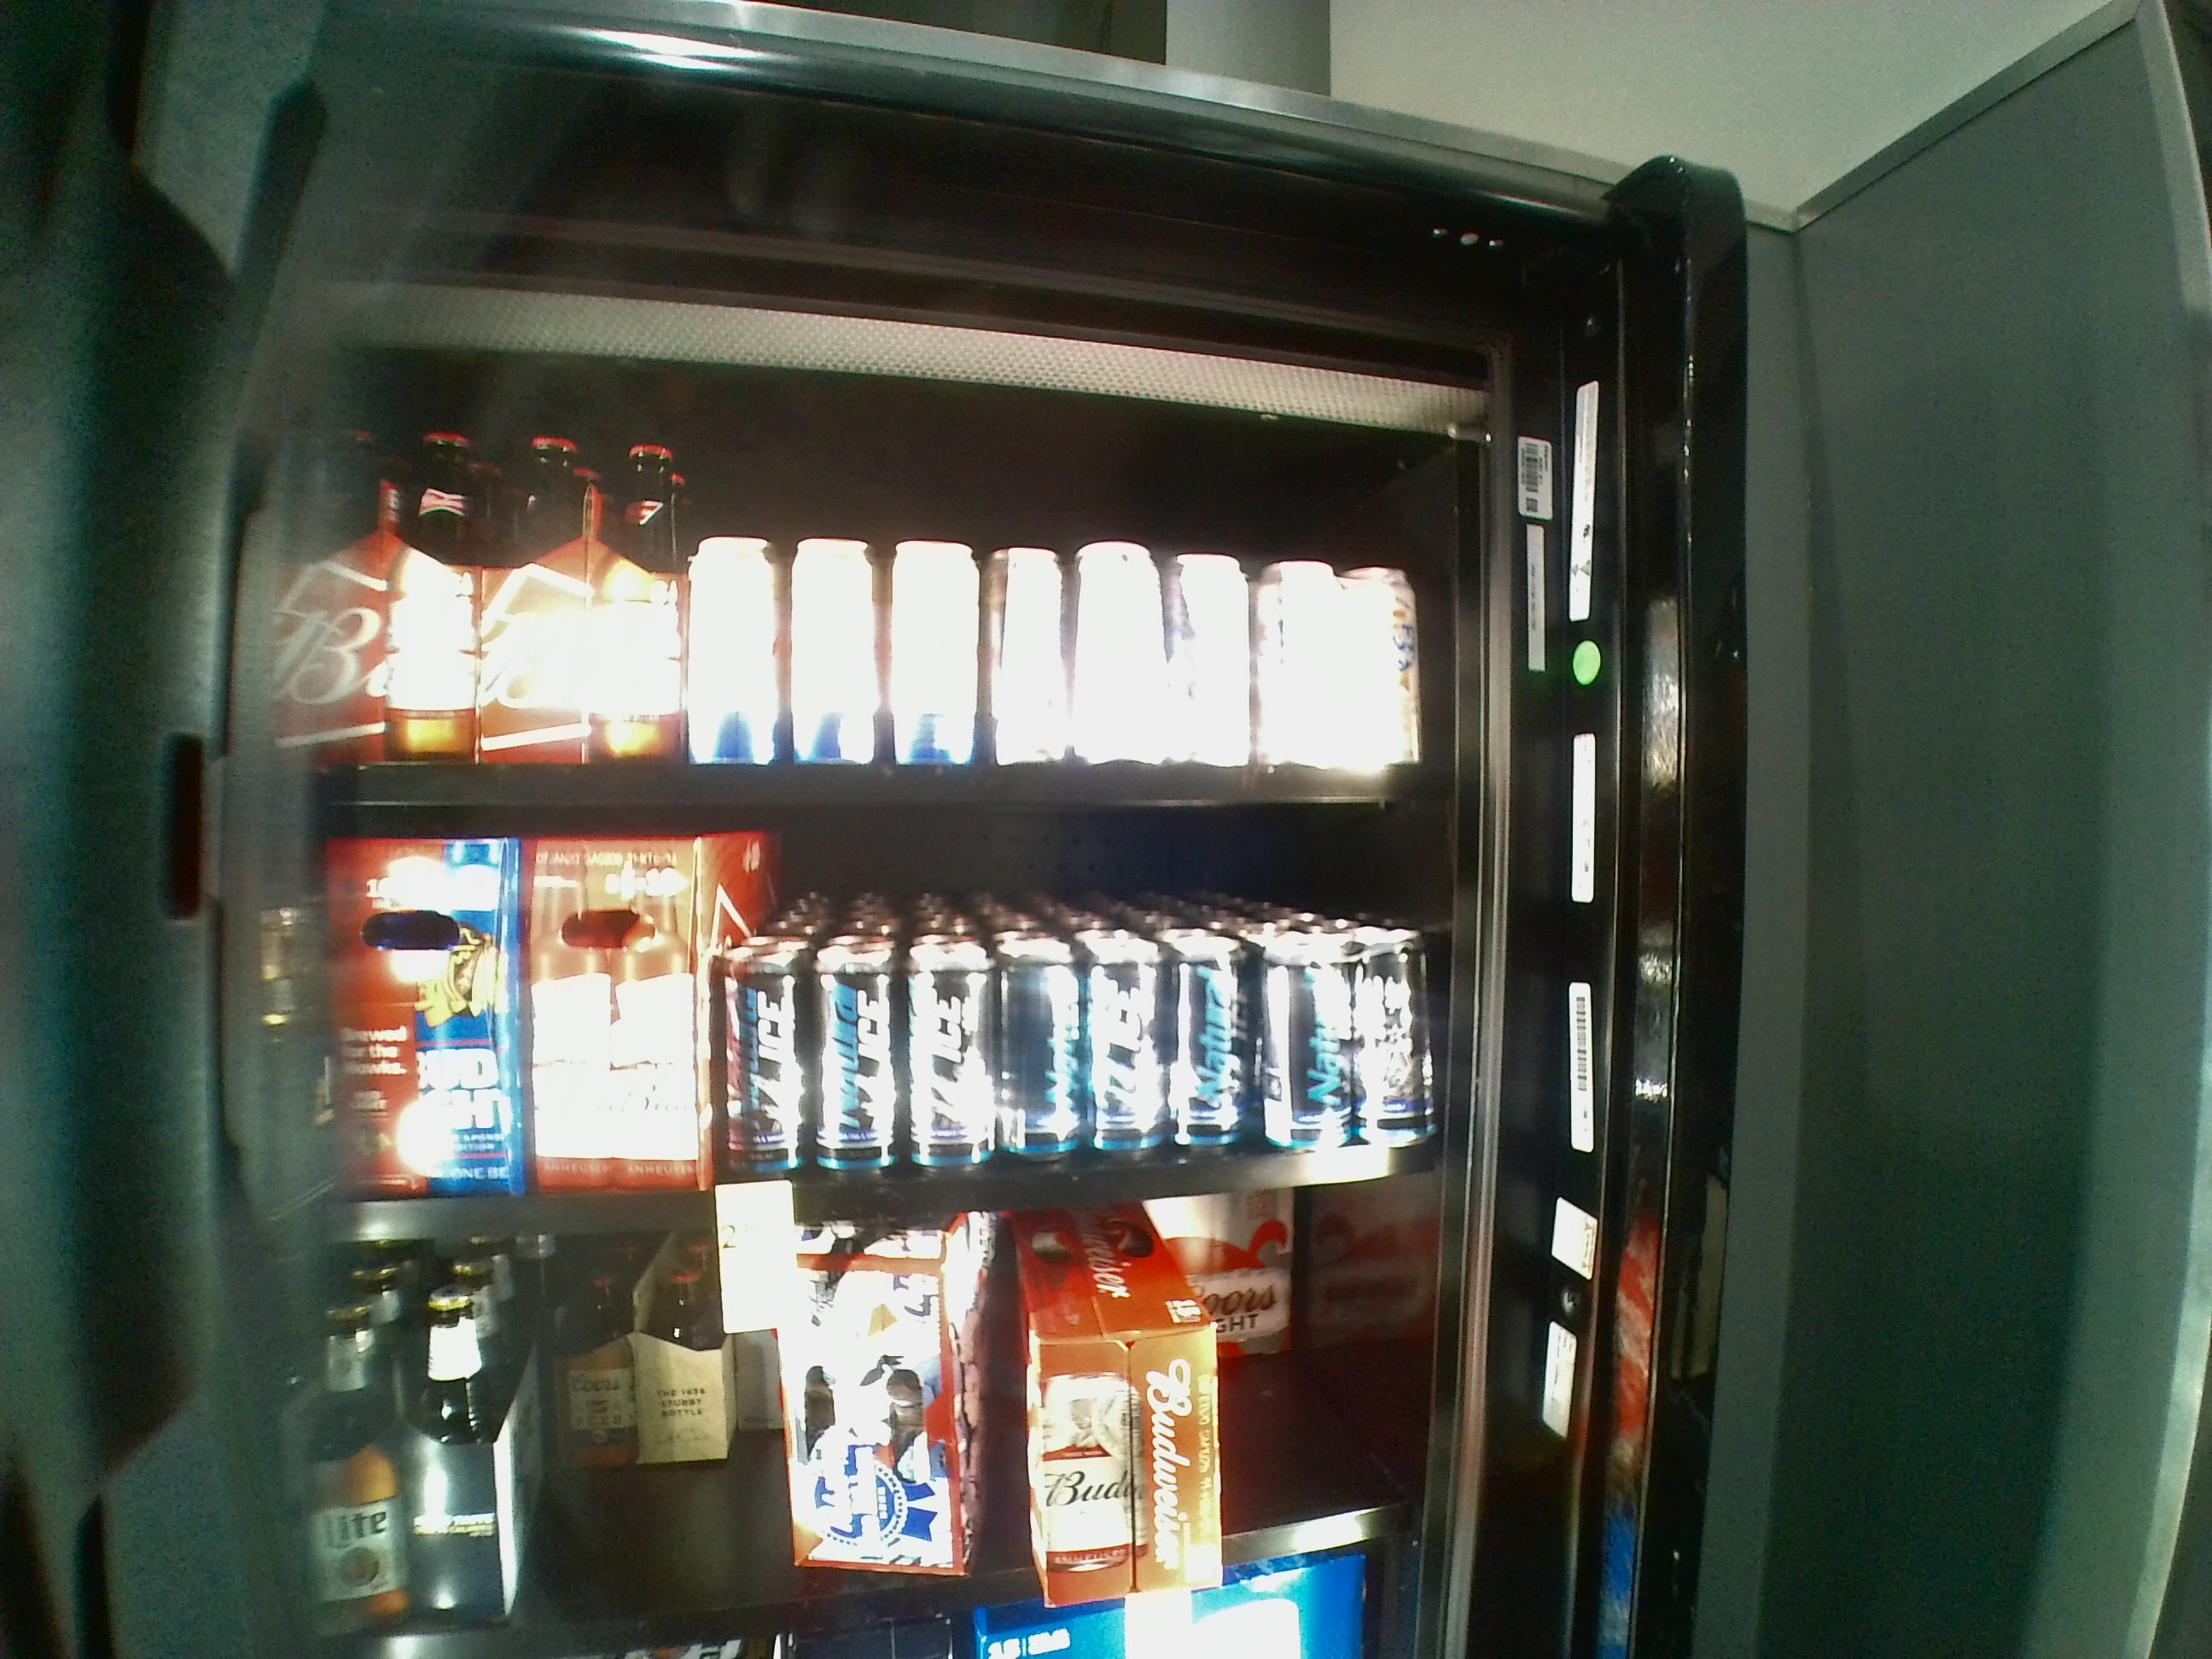shelf: (326, 390, 1442, 814), (312, 829, 1446, 1220), (310, 1223, 1379, 1631)
